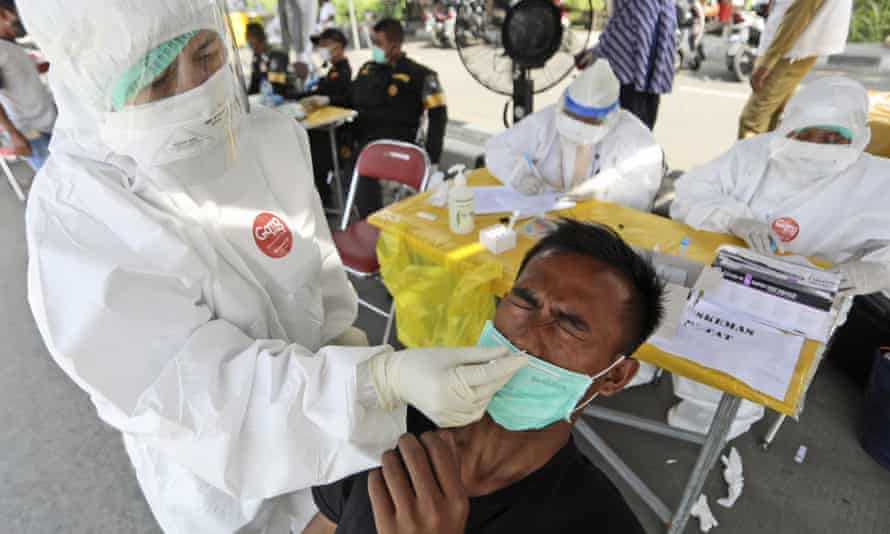Coverall: (1, 1, 414, 531)
Gloves: (354, 335, 529, 438)
masked_weared_incorrect: (467, 281, 597, 437)
with_mask: (99, 31, 237, 179), (776, 119, 850, 180)
